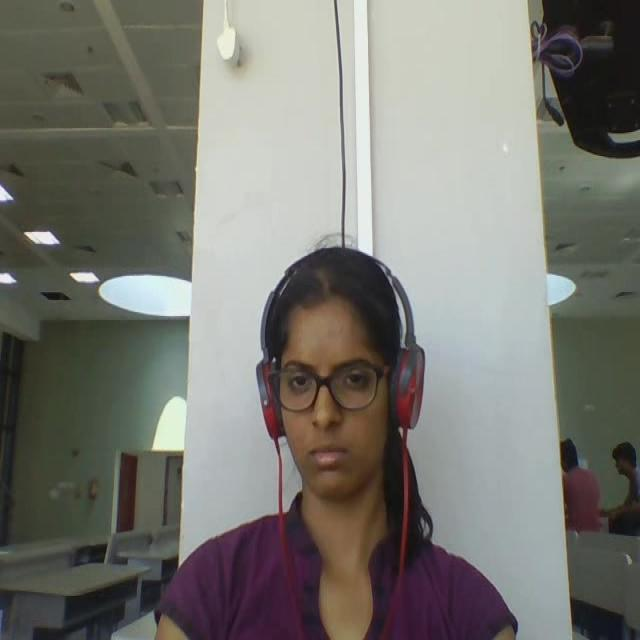Engaged: (233, 234, 454, 542)
